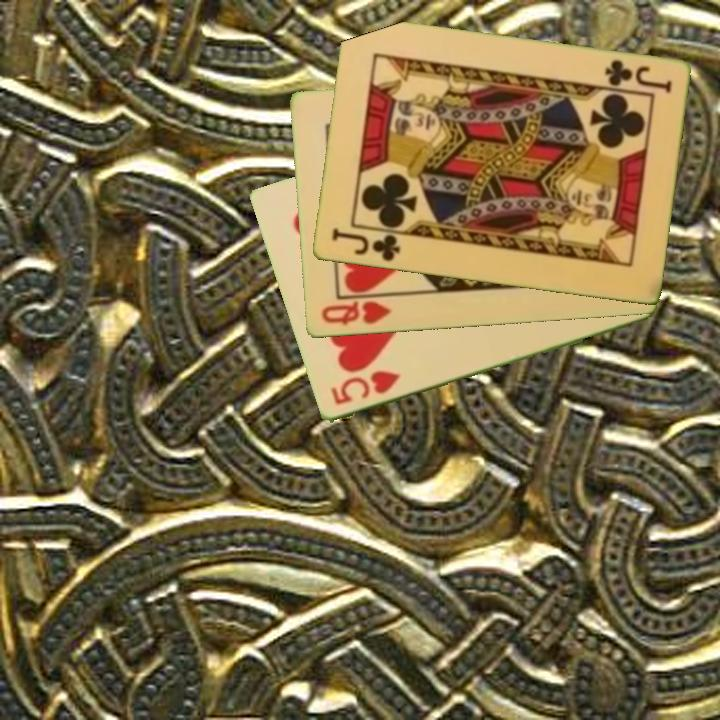5h: (327, 367, 403, 408)
Jc: (327, 224, 403, 265), (601, 56, 675, 96)
Qh: (317, 298, 394, 329)
